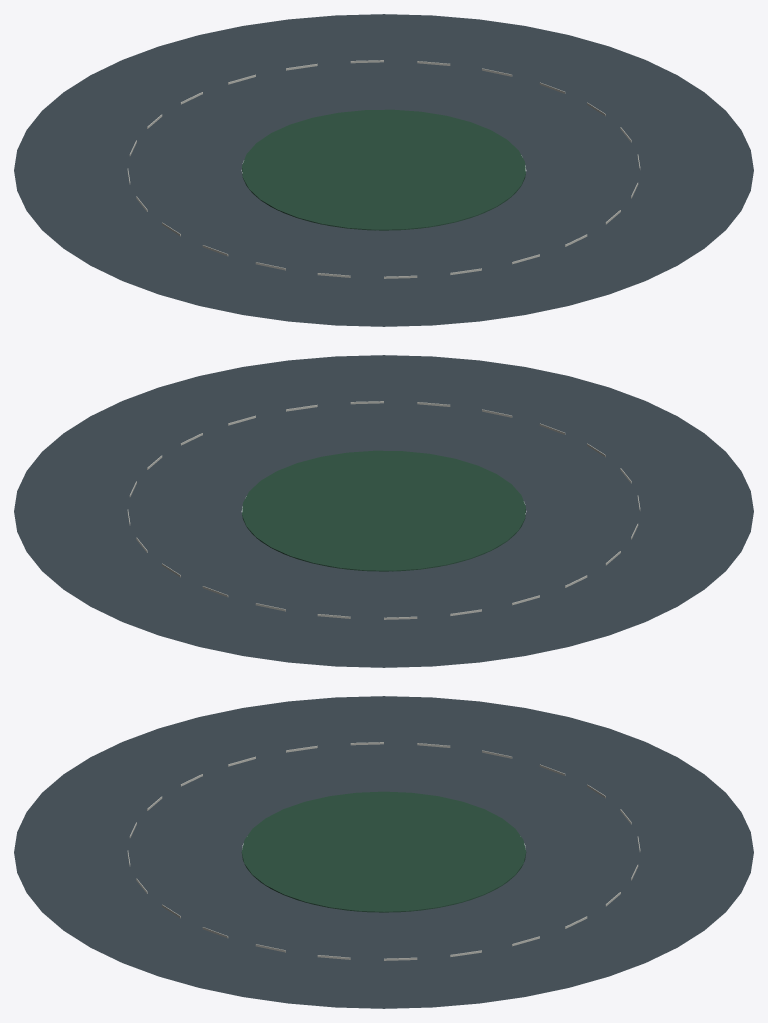
The model's file is landscape-road-roundabout.lod1.glb.
3 renders of one model, top to bottom at view 1: azimuth 30°, elevation 25°; view 2: azimuth 150°, elevation 25°; view 3: azimuth 270°, elevation 25°, orthographic.
Visible parts, largest first — view 1: landscape-road-roundabout__body; view 2: landscape-road-roundabout__body; view 3: landscape-road-roundabout__body.
Boxes of the visible parts, x1,y1,x2,y2 form: landscape-road-roundabout__body: (14,14,753,326); landscape-road-roundabout__body: (14,355,753,667); landscape-road-roundabout__body: (14,696,753,1008).
Size of the model in its own units: 26 by 0.2 by 26.
